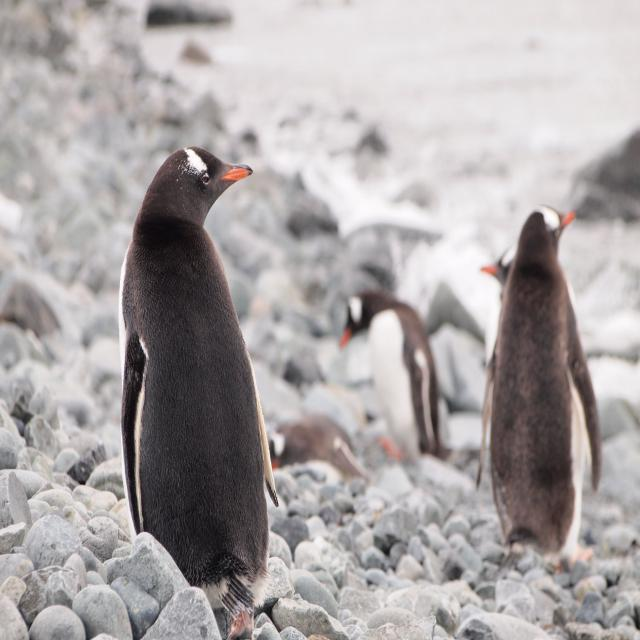Penguins: (108, 126, 295, 627), (477, 202, 602, 566), (340, 280, 450, 474)
